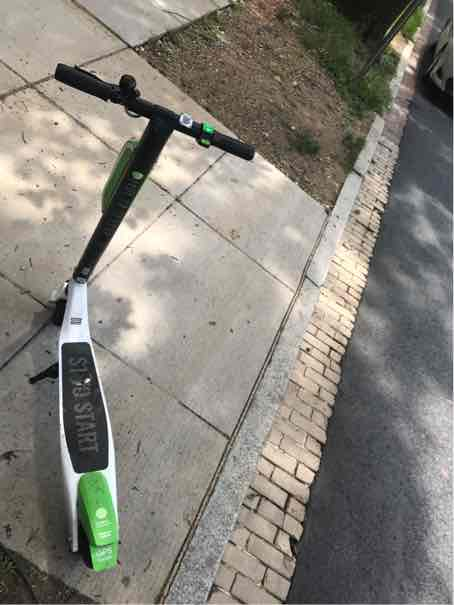scooter: (41, 56, 265, 572)
